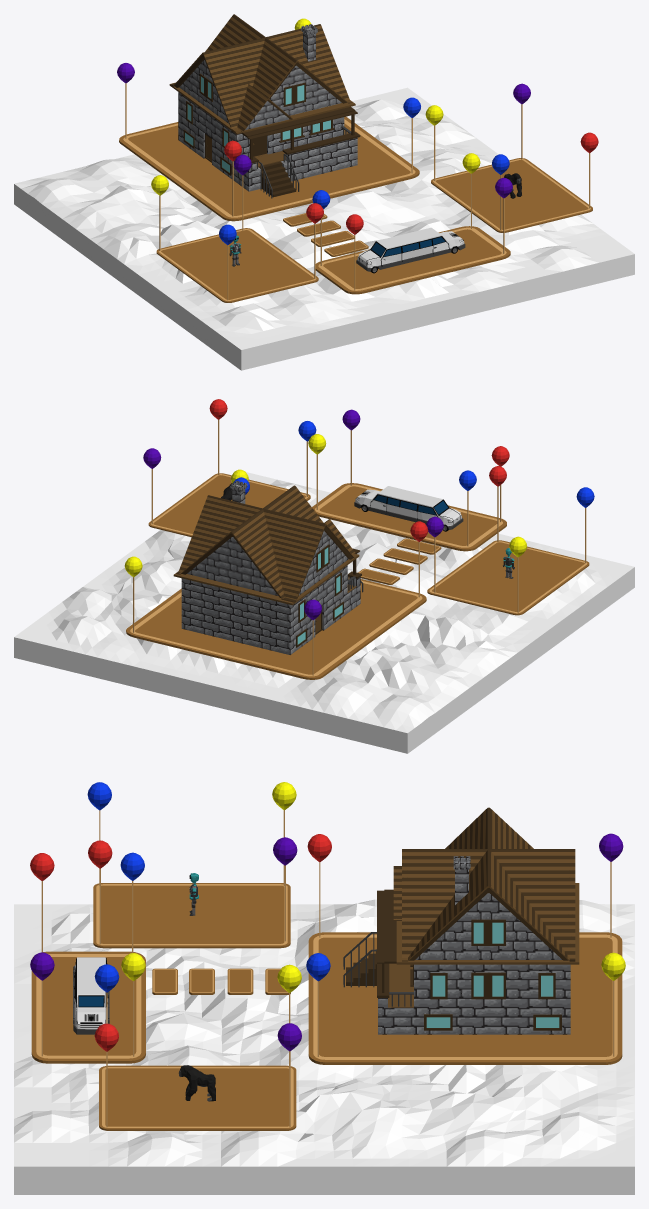
3 views of the same model, one above another, from view 1: azimuth 30°, elevation 25°; view 2: azimuth 150°, elevation 25°; view 3: azimuth 270°, elevation 25° (orthographic). The views are drawn at different scales.
Parts seen in each view (by area): view 1: Cube.013, Cube.586, VEHICLES_LIMOUSINE; view 2: Cube.013, Cube.586, VEHICLES_LIMOUSINE; view 3: Cube.013, Cube.586, VEHICLES_LIMOUSINE, ANIMAL_GORILA.
Part boxes in pixels (box(x1,y1,x2,y2)): Cube.013: box(14, 18, 634, 370); Cube.586: box(169, 14, 360, 198); VEHICLES_LIMOUSINE: box(356, 227, 465, 273); Cube.013: box(14, 399, 634, 753); Cube.586: box(173, 481, 363, 654); VEHICLES_LIMOUSINE: box(354, 486, 463, 531); Cube.013: box(14, 782, 634, 1194); Cube.586: box(343, 807, 579, 1034); VEHICLES_LIMOUSINE: box(73, 957, 109, 1034); ANIMAL_GORILA: box(178, 1065, 215, 1101).
Bounding box in the file's own units: 4000 × 1697 × 4000.
Materials: 36 (2 with a texture image).
